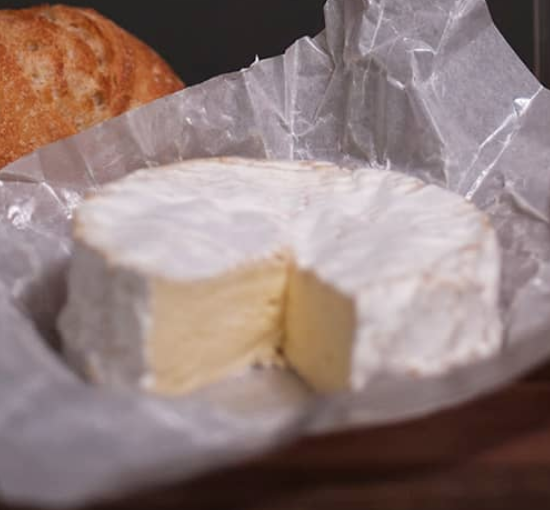camembert: (51, 154, 506, 412)
